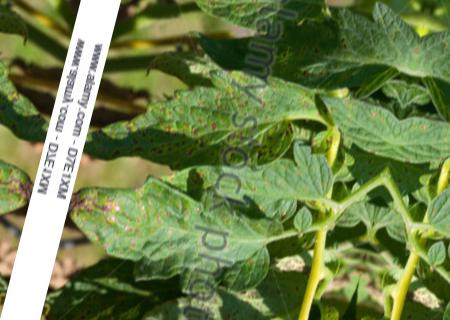Tomato Septoria leaf spot: (81, 29, 341, 211), (51, 161, 293, 320), (180, 127, 343, 239), (129, 233, 321, 320), (173, 0, 341, 49)
